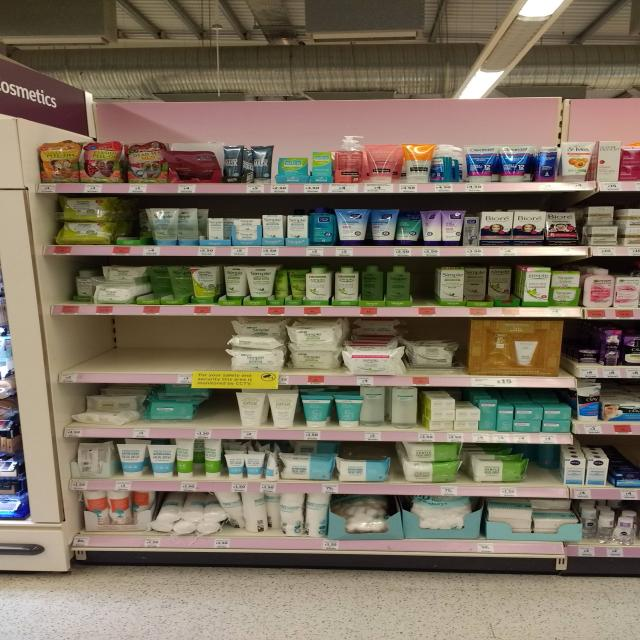void: (70, 318, 223, 369)
